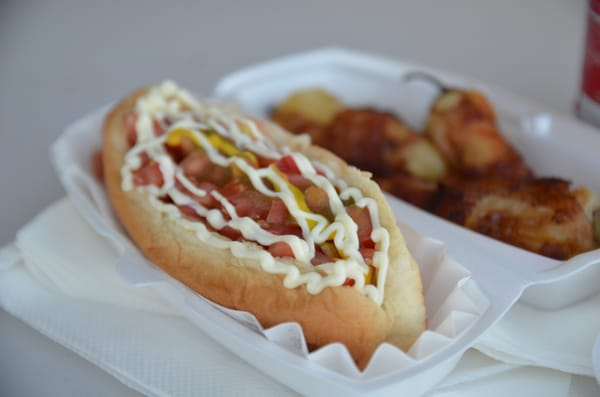pizza: (575, 2, 600, 131)
